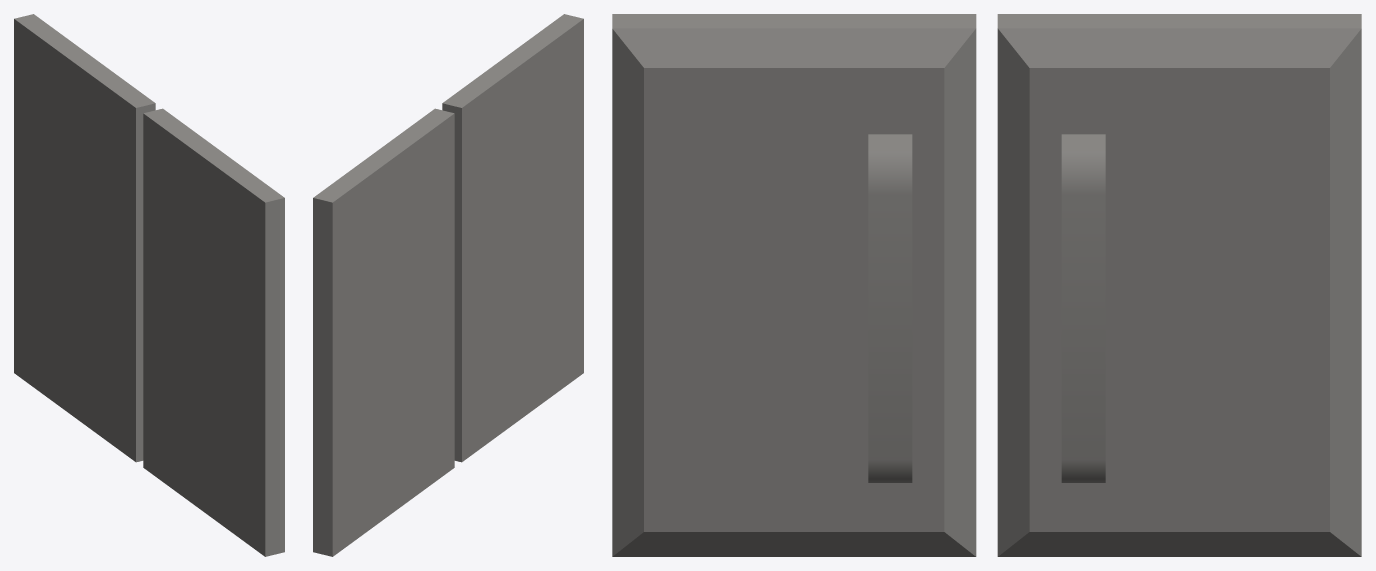
File: SM_Bench_Cupboard.fbx
3 views of the same model, side by side, from view 1: azimuth 30°, elevation 25°; view 2: azimuth 150°, elevation 25°; view 3: azimuth 270°, elevation 25° (orthographic). The views are drawn at different scales.
Parts seen in each view (by area): view 1: SM_Bench_Cupboard; view 2: SM_Bench_Cupboard; view 3: SM_Bench_Cupboard.
Boxes of the visible parts, left/top/right/bottom form: SM_Bench_Cupboard: left=14, top=14, right=284, bottom=556; SM_Bench_Cupboard: left=313, top=14, right=583, bottom=556; SM_Bench_Cupboard: left=612, top=14, right=1361, bottom=556.
Size of the model in its own units: 13.22 by 66.45 by 85.37.
